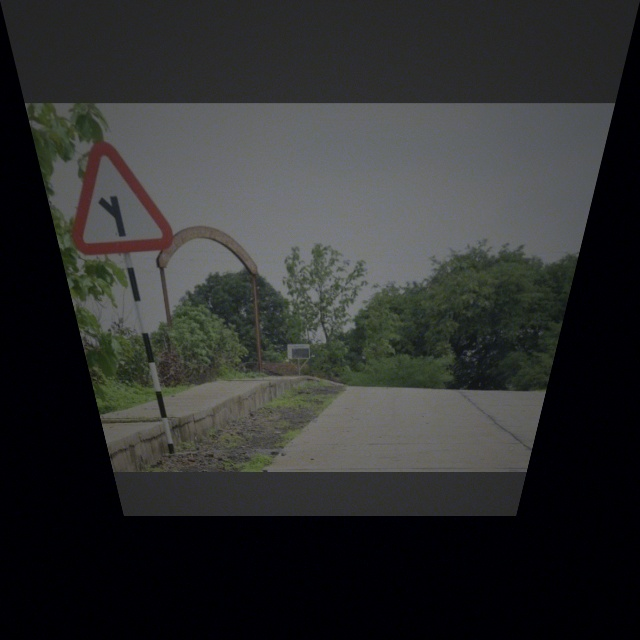Y_Intersection: (52, 140, 178, 256)
